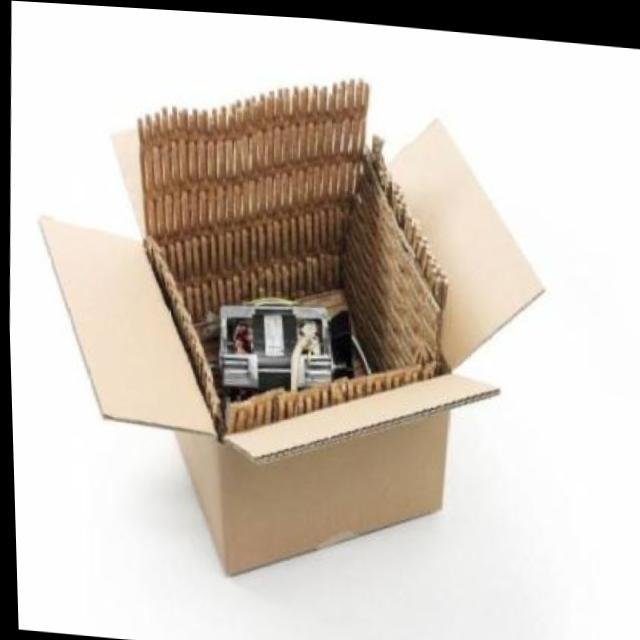box: (16, 29, 568, 616)
